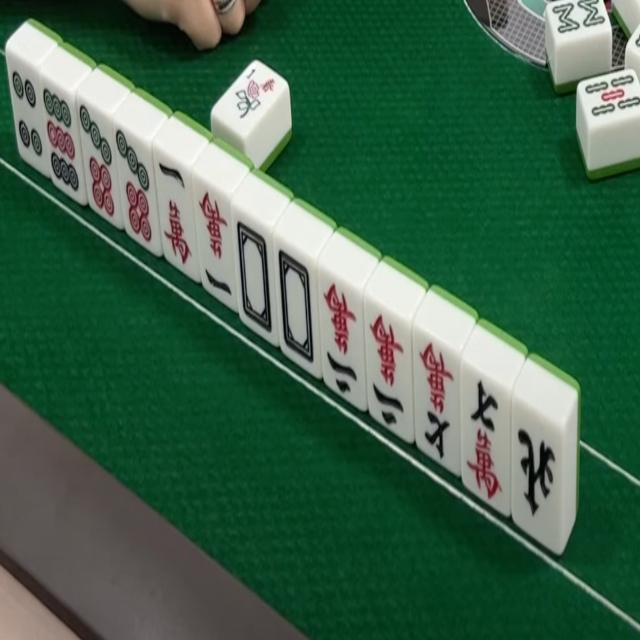bai: (276, 241, 319, 373), (232, 216, 274, 343)
ff1: (227, 63, 283, 134)
m1: (151, 156, 196, 272), (196, 182, 232, 304)
m2: (320, 273, 367, 400), (367, 304, 412, 432)
m7: (459, 372, 506, 509), (415, 332, 461, 462)
north: (511, 416, 566, 524)
s5: (578, 66, 640, 143)
s8: (551, 0, 608, 43)
t4: (8, 60, 48, 165)
t7: (113, 127, 159, 247), (75, 104, 118, 223)
t9: (38, 84, 84, 200)
